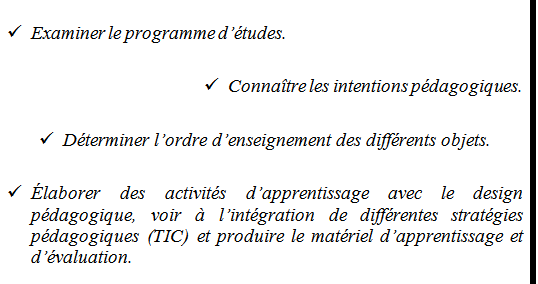texte: (30, 26, 285, 43), (417, 70, 521, 102), (334, 70, 408, 102), (246, 186, 370, 203), (380, 229, 504, 246), (212, 133, 332, 150), (230, 17, 290, 49), (29, 229, 139, 246), (29, 208, 135, 225), (219, 208, 314, 225), (129, 26, 220, 43), (360, 208, 438, 225), (229, 79, 329, 92), (31, 250, 131, 263), (451, 208, 523, 225), (366, 133, 436, 150), (215, 229, 285, 246), (62, 133, 150, 146), (30, 183, 101, 199), (473, 186, 522, 203), (441, 133, 489, 150), (311, 229, 373, 242), (165, 186, 226, 199), (154, 133, 208, 146), (148, 229, 188, 246), (307, 70, 327, 102), (108, 17, 122, 49), (151, 209, 182, 221), (336, 133, 361, 146), (120, 186, 145, 199), (388, 190, 422, 199), (329, 208, 348, 221), (441, 186, 455, 199), (291, 229, 305, 242), (8, 25, 22, 37), (205, 78, 219, 90), (40, 132, 54, 144), (197, 230, 211, 242), (510, 230, 524, 242), (195, 208, 205, 221), (8, 185, 16, 197)
